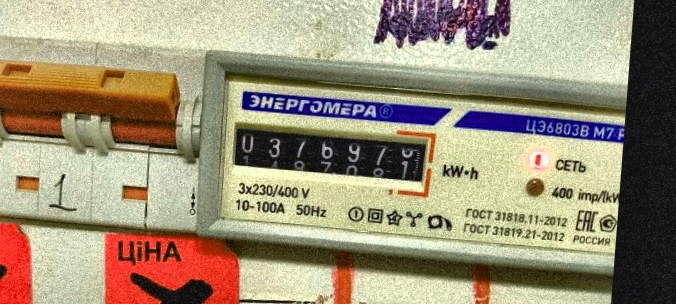0: (239, 131, 255, 154)
1: (398, 158, 409, 181)
3: (266, 136, 281, 158)
6: (318, 136, 335, 160)
7: (292, 135, 308, 159), (372, 141, 388, 165)
9: (345, 140, 361, 163)
screen: (220, 113, 439, 201)
